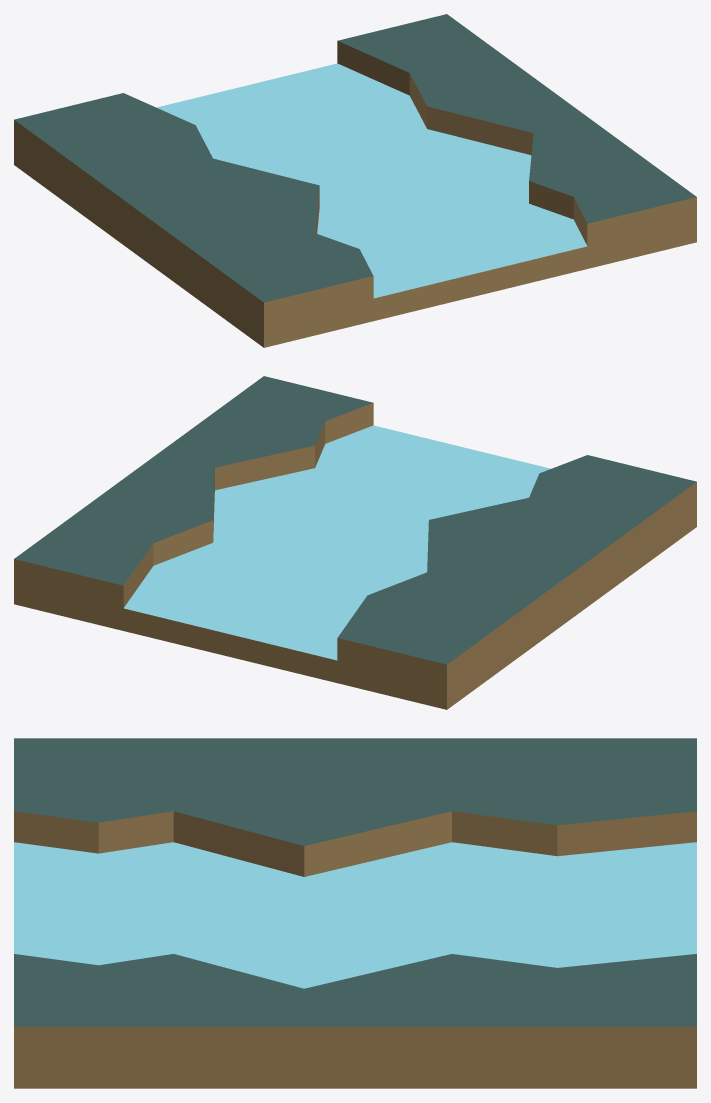
Rendered from Plate_River_Dirt_01.fbx.
3 views of the same model, one above another, from view 1: azimuth 30°, elevation 25°; view 2: azimuth 150°, elevation 25°; view 3: azimuth 270°, elevation 25° (orthographic). The views are drawn at different scales.
Parts seen in each view (by area): view 1: Mesh1_Plate_River_Dirt Model; view 2: Mesh1_Plate_River_Dirt Model; view 3: Mesh1_Plate_River_Dirt Model.
Part boxes in pixels (x1,y1,x2,y2): Mesh1_Plate_River_Dirt Model: (14, 14, 696, 347); Mesh1_Plate_River_Dirt Model: (14, 376, 696, 709); Mesh1_Plate_River_Dirt Model: (14, 738, 696, 1088).
Bounding box in the file's own units: 3 × 0.3 × 3.
